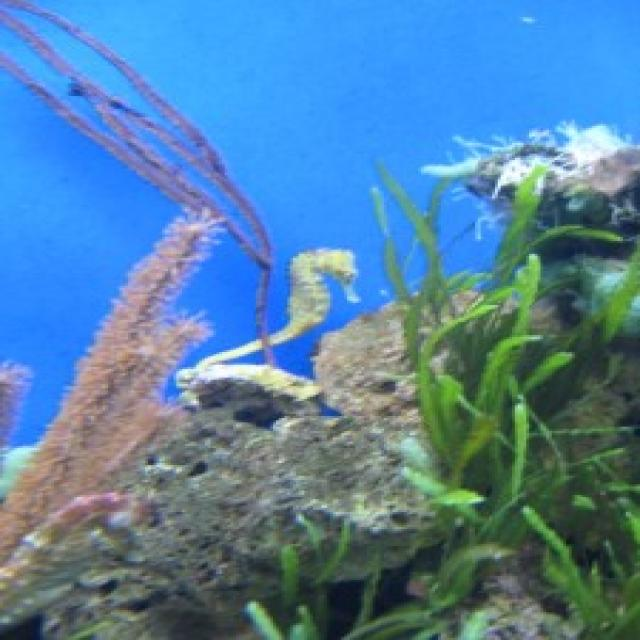Seahorse: (228, 244, 377, 370)
